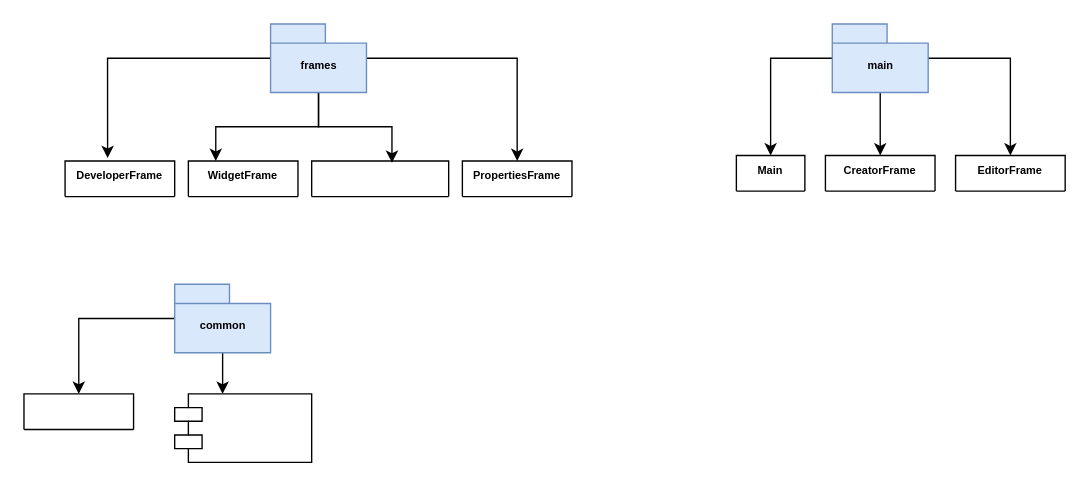
The diagram is 1089 pixels wide and 486 high, and some of its shapes have lost their labels. The centre of each missing label's shape, as x and y in pixels:
constants.py: pixel 242 427
DragAndDropFrame: pixel 379 178
Properties: pixel 78 411
